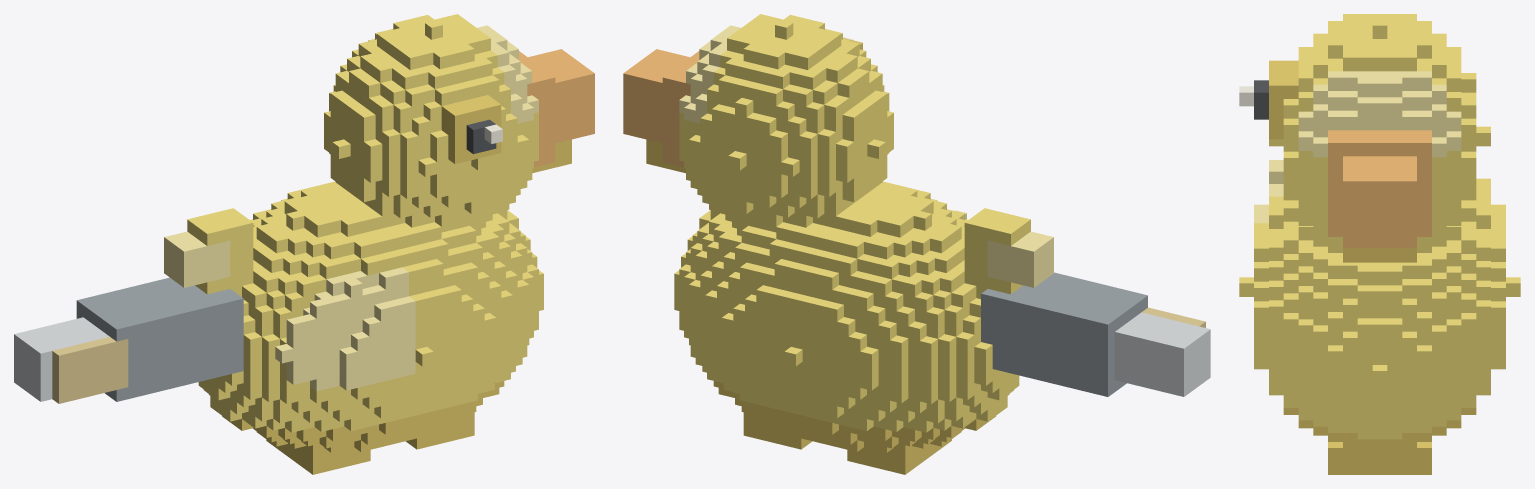
File: projet-rubber-ducky.glb
3 renders of one model, left to right at view 1: azimuth 30°, elevation 25°; view 2: azimuth 150°, elevation 25°; view 3: azimuth 270°, elevation 25°, orthographic. The views are drawn at different scales.
Parts seen in each view (by area): view 1: Sunshine yellow soft rubber, Warm yellow highlights, Connector graphite collar, Golden underside, Matte orange bill, USB gold contacts, Brushed USB connector, Glossy black eyes; view 2: Sunshine yellow soft rubber, Connector graphite collar, Golden underside, Brushed USB connector, Matte orange bill, Warm yellow highlights; view 3: Sunshine yellow soft rubber, Matte orange bill, Warm yellow highlights, Golden underside, Glossy black eyes, Eye highlights.
Boxes of the visible parts, <box> form: Sunshine yellow soft rubber: <box>187,14,543,432</box>; Warm yellow highlights: <box>164,25,538,391</box>; Connector graphite collar: <box>76,277,243,401</box>; Golden underside: <box>222,95,571,474</box>; Matte orange bill: <box>519,49,594,167</box>; USB gold contacts: <box>52,337,128,403</box>; Brushed USB connector: <box>14,317,109,401</box>; Glossy black eyes: <box>466,119,496,154</box>; Sunshine yellow soft rubber: <box>674,14,1030,432</box>; Connector graphite collar: <box>981,272,1147,396</box>; Golden underside: <box>646,38,995,474</box>; Brushed USB connector: <box>1114,312,1210,396</box>; Matte orange bill: <box>623,49,699,166</box>; Warm yellow highlights: <box>679,25,1053,287</box>; Sunshine yellow soft rubber: <box>1239,14,1520,439</box>; Matte orange bill: <box>1328,130,1431,248</box>; Warm yellow highlights: <box>1254,71,1461,223</box>; Golden underside: <box>1269,60,1476,474</box>; Glossy black eyes: <box>1254,80,1268,119</box>; Eye highlights: <box>1239,86,1253,106</box>.
Bounding box in the file's own units: 1.68 × 1.16 × 0.665.
